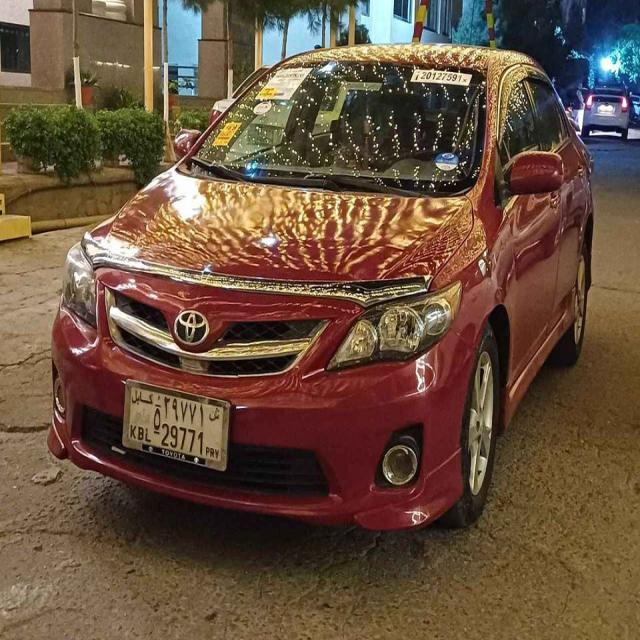Plate: (121, 376, 234, 475)
